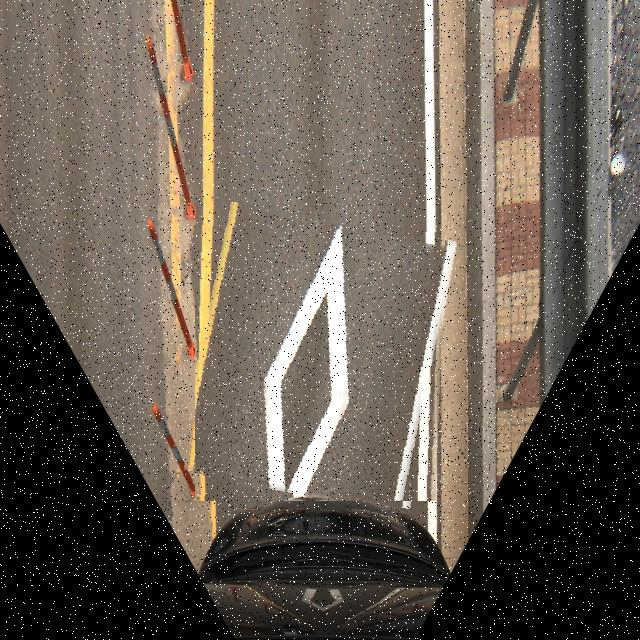diamond: (195, 211, 446, 501)
